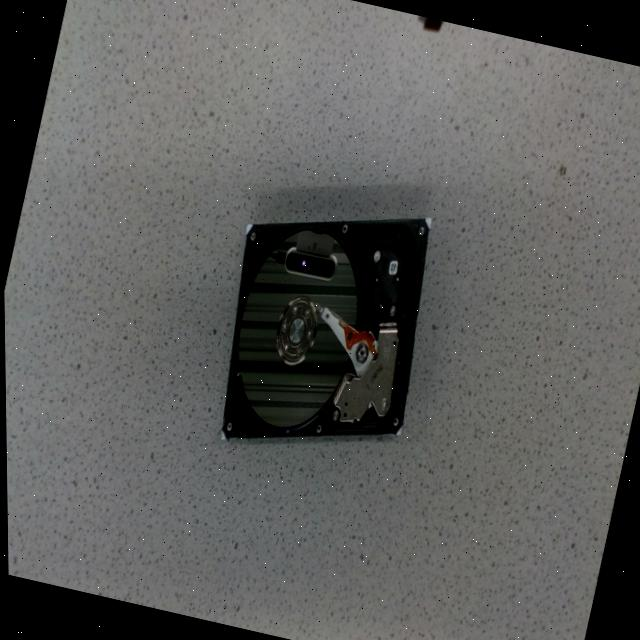actuator arm: (320, 307, 375, 376)
actuator axis: (354, 343, 366, 362)
case: (218, 218, 429, 438)
magnet: (331, 325, 396, 420)
pcb connector: (370, 247, 402, 318)
platter: (236, 229, 354, 424)
platter holder: (274, 295, 315, 363)
screw: (387, 304, 394, 316), (372, 250, 379, 262), (293, 344, 300, 356), (378, 397, 385, 409), (289, 303, 295, 314), (281, 340, 287, 351), (304, 328, 310, 339), (280, 321, 286, 331), (302, 308, 308, 317)
